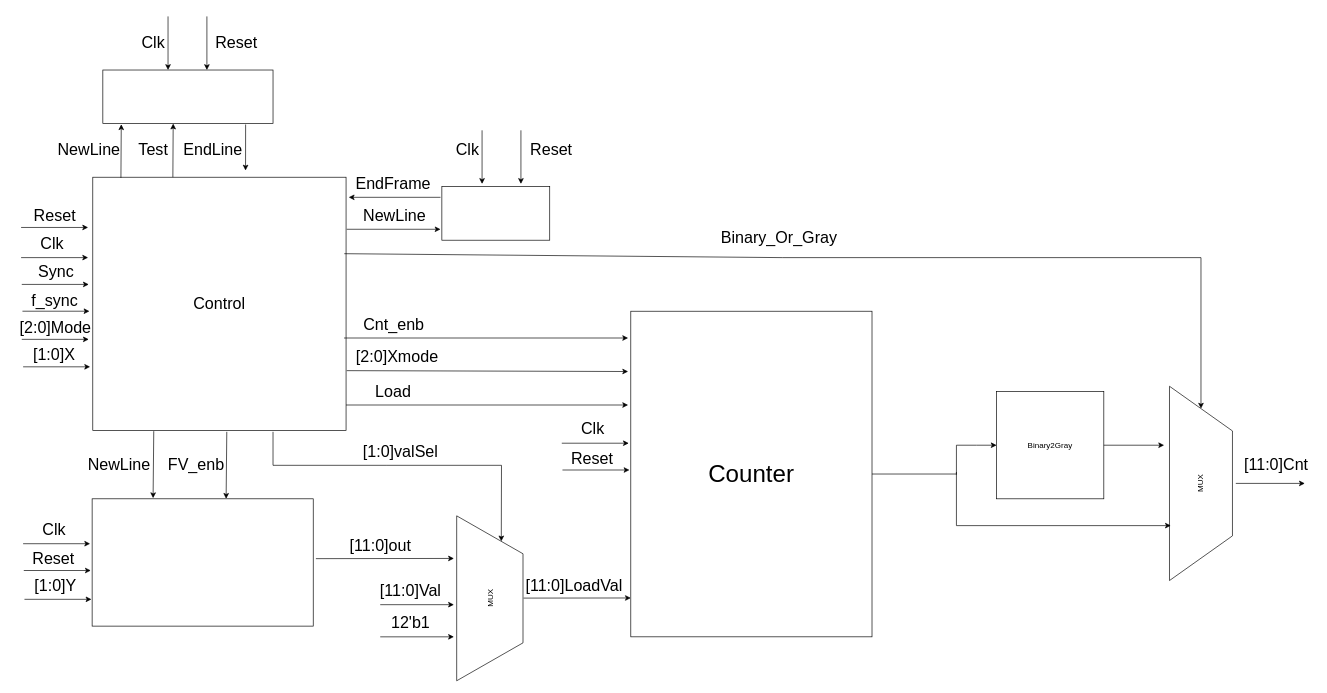
Some shapes in this 1327 by 693 pixel diagram are drawn without their labels. The shapes that lost their labels are listed below. From the top down, each one's centre as x and y in pixels, then its label:
At (187,96): "12BitCounter".
At (495,213): "5BitCounter".
At (202,562): "Ramp".
